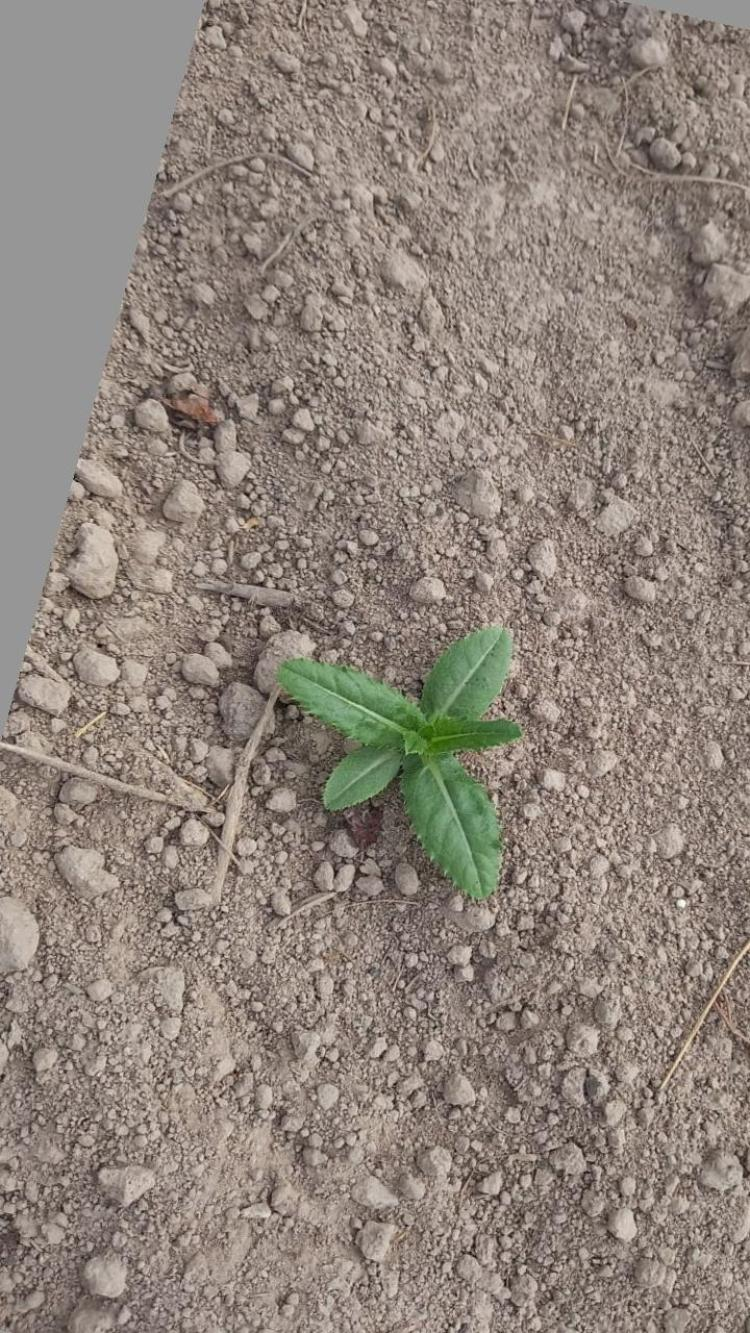osot: (261, 619, 516, 908)
